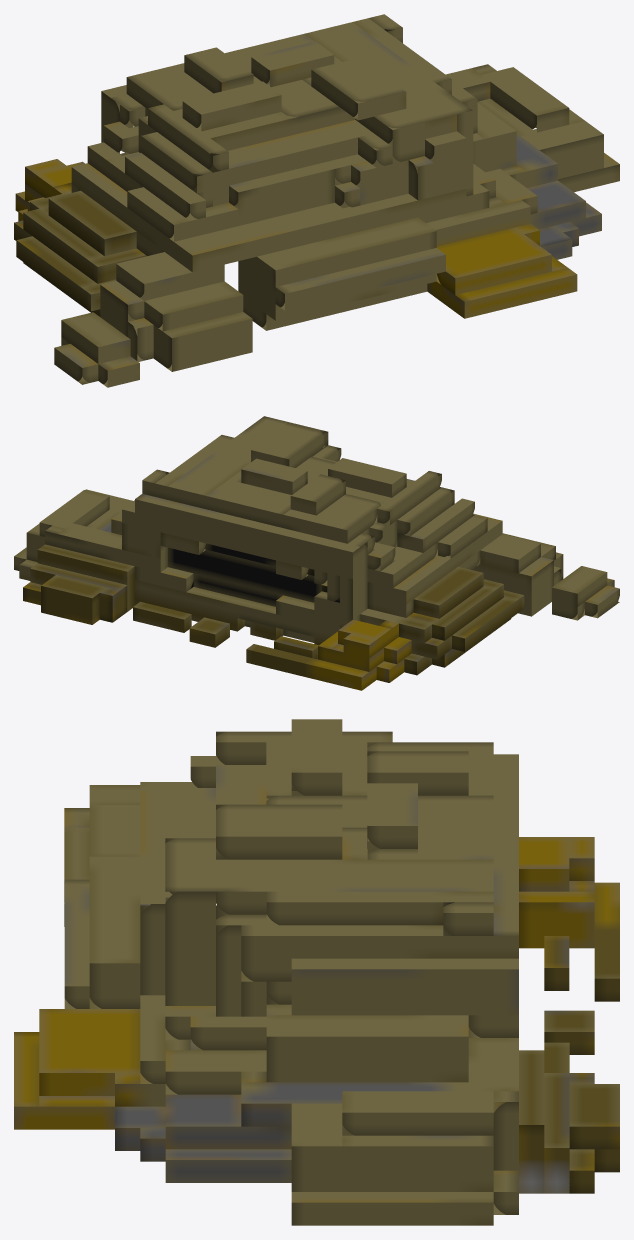
The model's file is enemy_sniper.dae.
3 renders of one model, top to bottom at view 1: azimuth 30°, elevation 25°; view 2: azimuth 150°, elevation 25°; view 3: azimuth 270°, elevation 25°, orthographic. The views are drawn at different scales.
Visible parts, largest first — view 1: enemy_sniper-local; view 2: enemy_sniper-local; view 3: enemy_sniper-local.
Boxes of the visible parts, bbox=[...] form: enemy_sniper-local: bbox=[14, 14, 619, 387]; enemy_sniper-local: bbox=[14, 416, 619, 690]; enemy_sniper-local: bbox=[14, 719, 619, 1225].
Bounding box in the file's own units: 38 × 10 × 24.
1 material, 1 textured.
